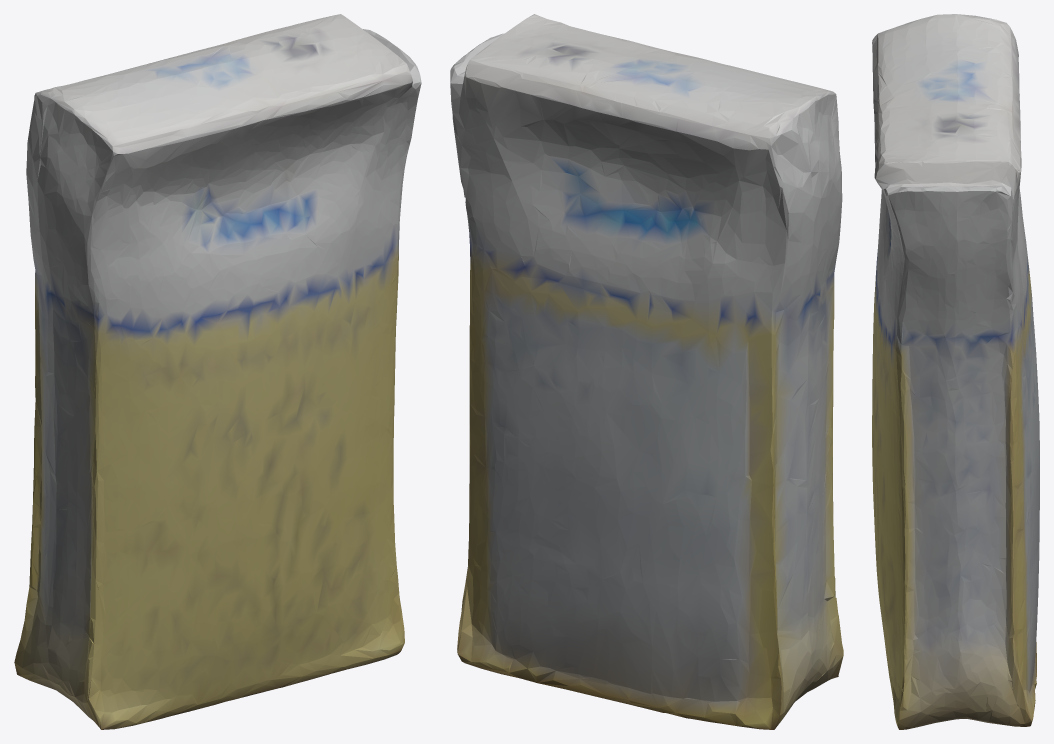
The model's file is sugar-box.glb.
3 renders of one model, left to right at view 1: azimuth 30°, elevation 25°; view 2: azimuth 150°, elevation 25°; view 3: azimuth 270°, elevation 25°, orthographic. The views are drawn at different scales.
Visible parts, largest first — view 1: geometry_0; view 2: geometry_0; view 3: geometry_0.
Part boxes in pixels (<box>): geometry_0: <box>14,14,421,729</box>; geometry_0: <box>450,14,843,729</box>; geometry_0: <box>872,14,1039,729</box>.
Bounding box in the file's own units: 0.0972 × 0.1603 × 0.0422.
